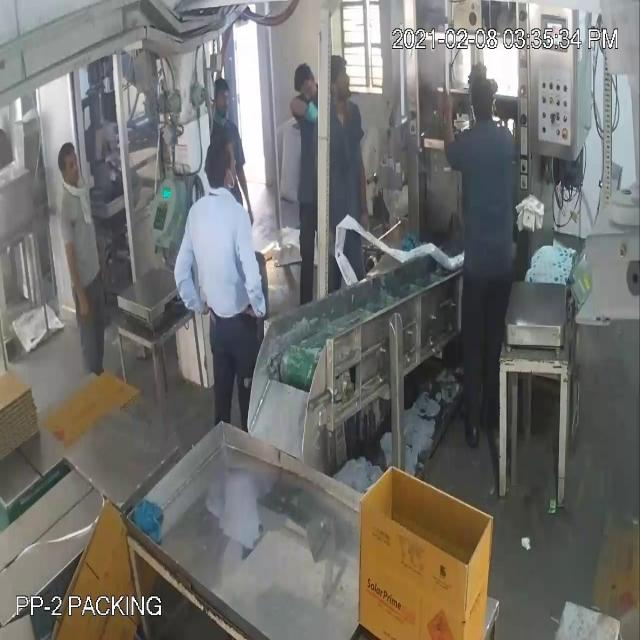No_Gloves: (24, 40, 445, 274)
